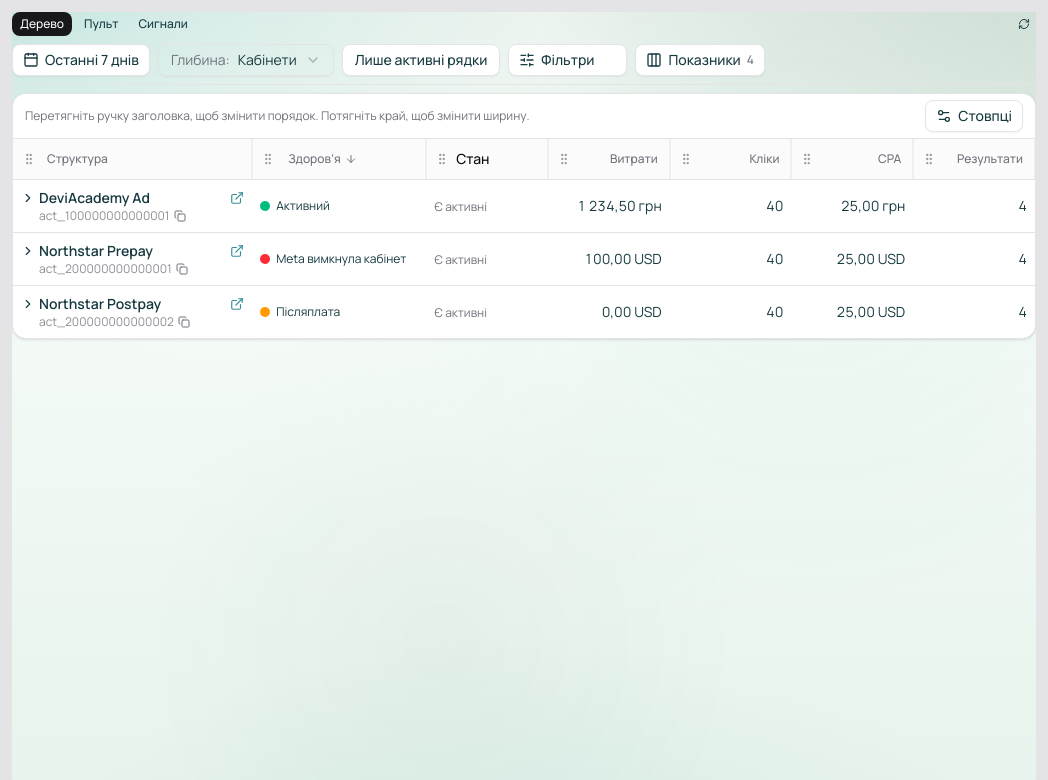
Test case: Fleet Board › expands and collapses when clicking anywhere on a row
This screenshot has width=1048, height=780.
Click the row that starts with "DeviAcademy Ad" at (524, 206), box [13,179,1035,232]
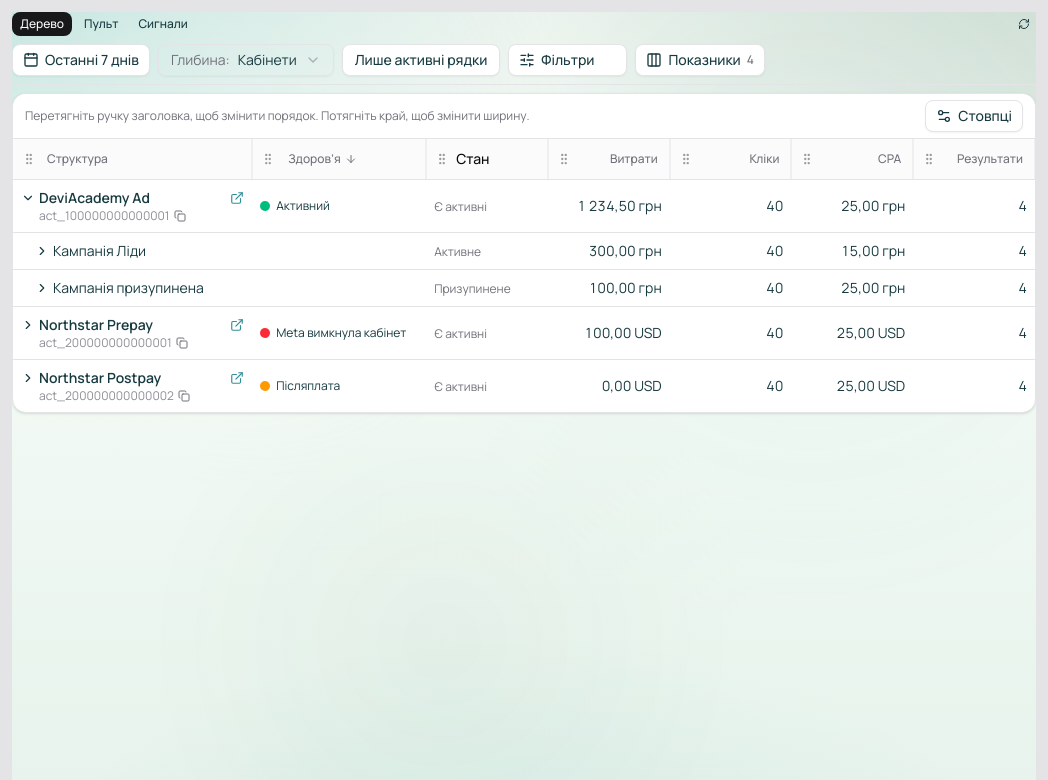
Expected: the text "Кампанія Ліди" is shown, [53,240,146,260]
Click the row that starts with "DeviAcademy Ad" at (524, 206), box [13,179,1035,232]
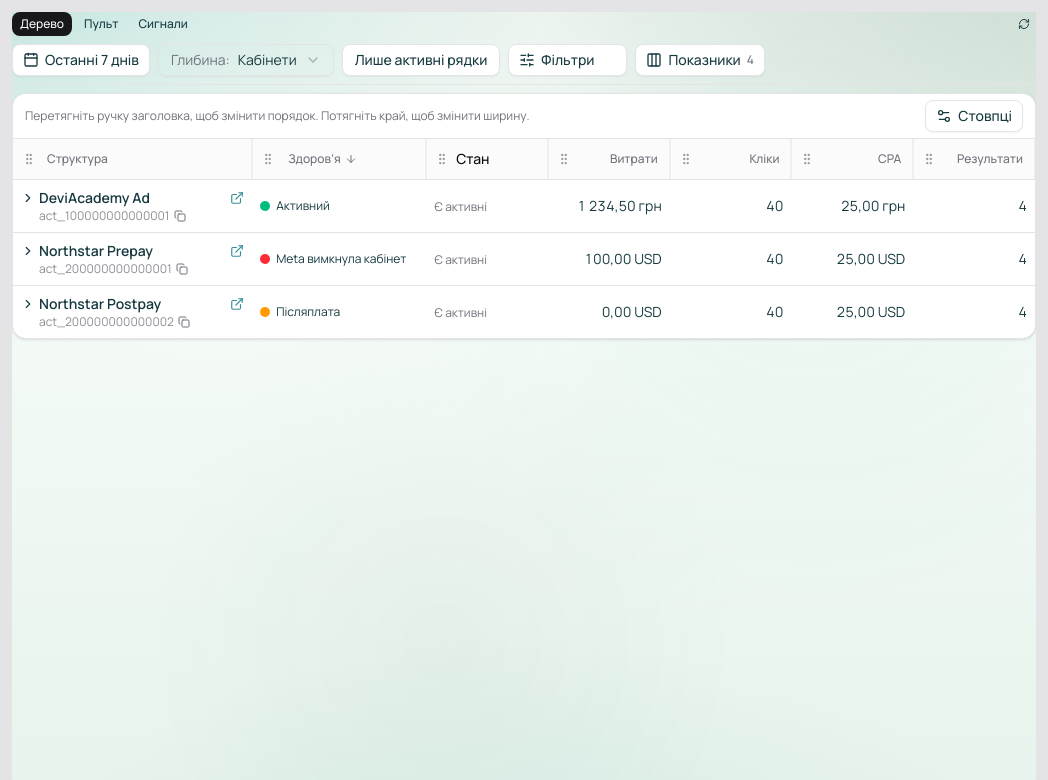
Expected: the button "Кампанія Ліди" is gone
Press Enter in the row that starts with "DeviAcademy Ad", box [13,179,1035,232]
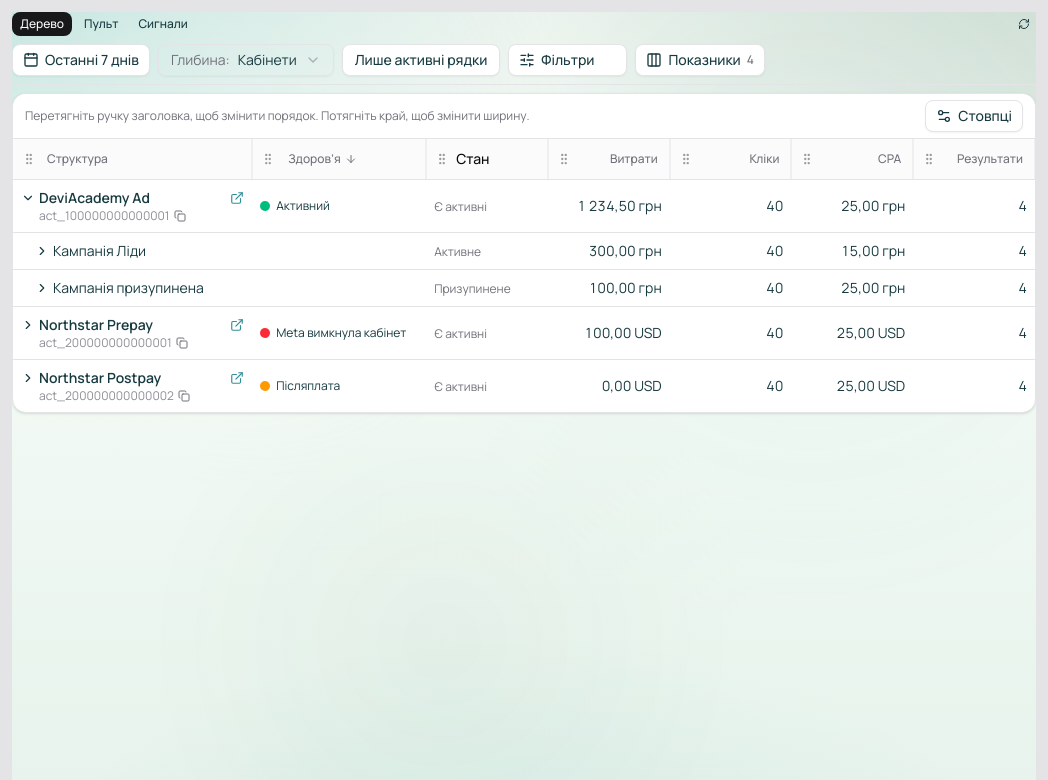
Expected: the text "Кампанія Ліди" is shown, [53,240,146,260]
Press Space in the row that starts with "DeviAcademy Ad", box [13,179,1035,232]
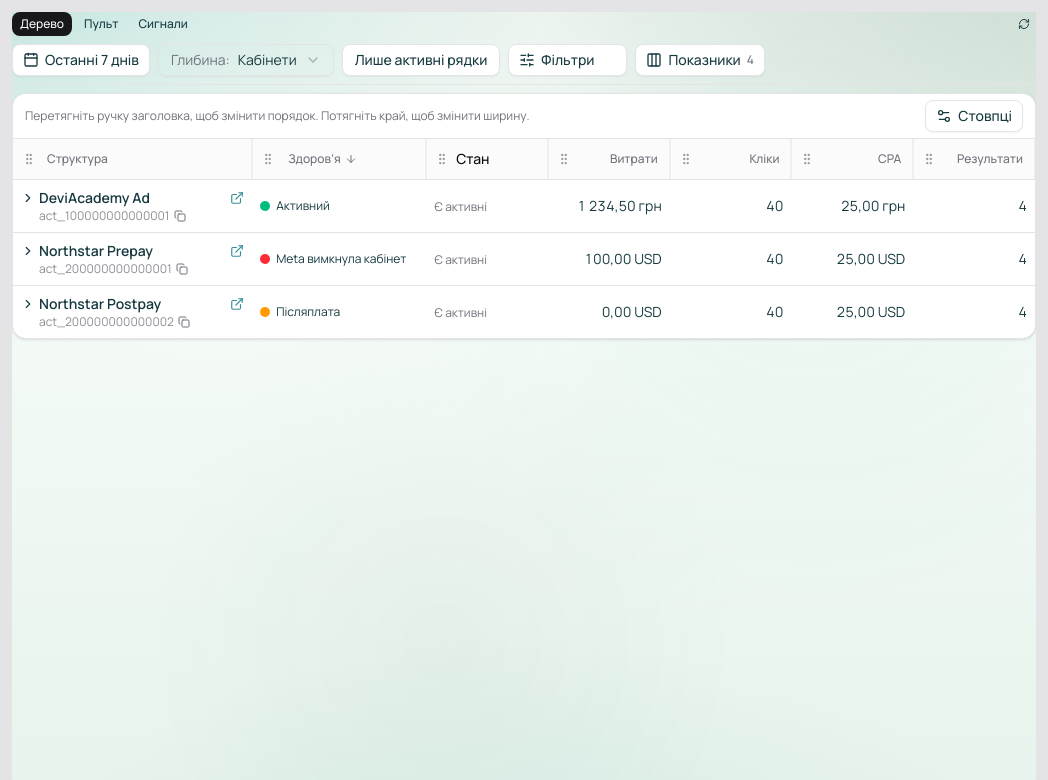
Expected: the button "Кампанія Ліди" is gone
